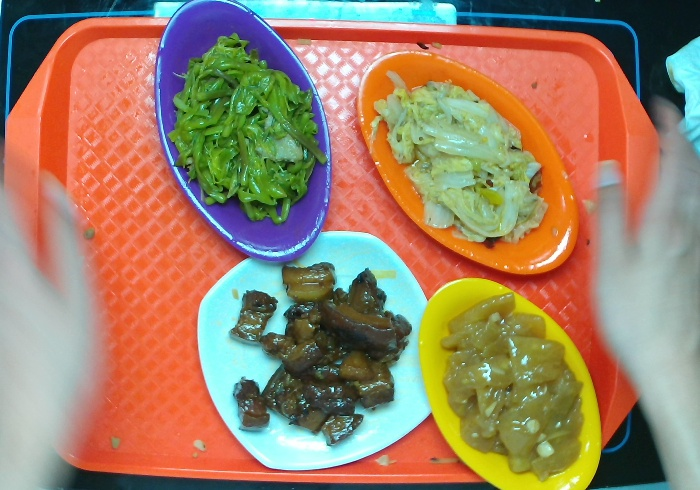RJxy-Fen_Hong_Tuo_Yuan: (153, 1, 334, 263)
RJxy-Huang_Se_Tuo_Yuan: (418, 276, 603, 490)
RJxy-Ju_Huang_Tuo_Yuan: (355, 49, 581, 277)
RJxy-Si_Fang_Die: (195, 229, 435, 472)
